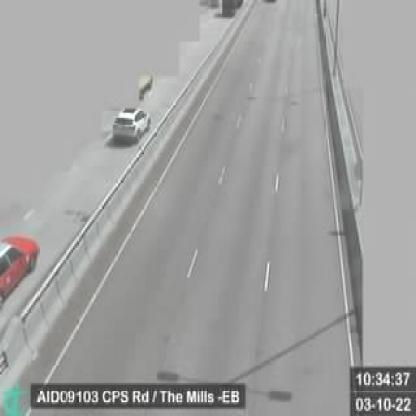Car: (112, 108, 151, 140)
